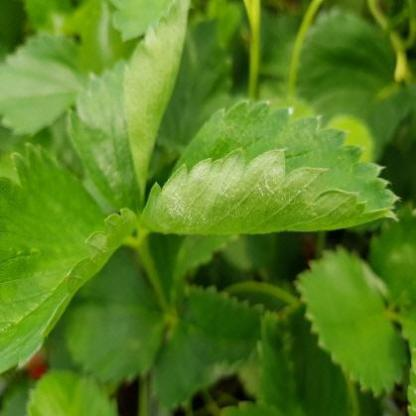Strawberry_Powdery_Mildew_Leaf: (140, 100, 400, 235)
